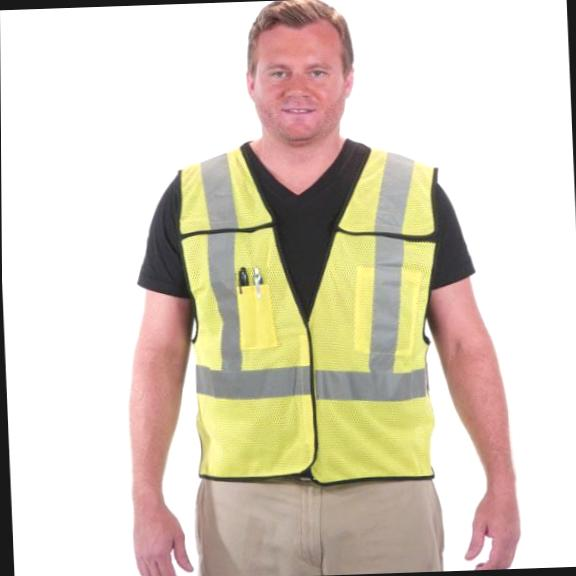safety_vest: (175, 130, 451, 486)
